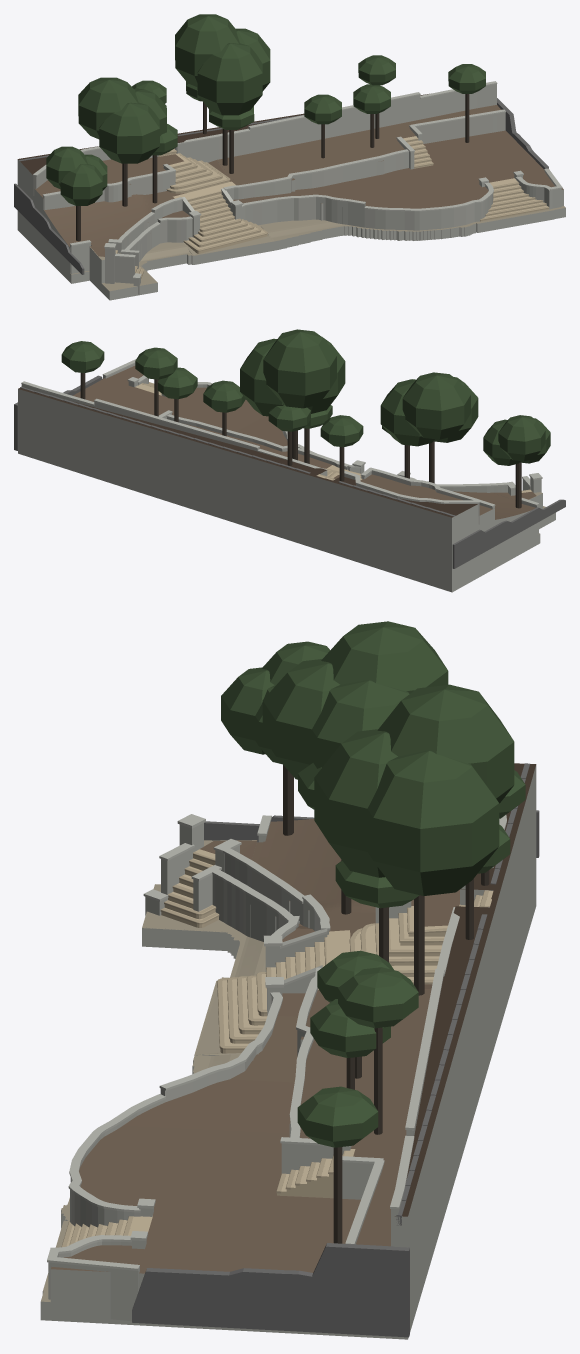
The model's file is reconstruction-25eb1bb3d922.glb.
The picture shows the model from 3 angles, top to bottom: view 1: azimuth 30°, elevation 25°; view 2: azimuth 150°, elevation 25°; view 3: azimuth 270°, elevation 25°; orthographic projection. The views are drawn at different scales.
Visible parts, largest first — view 1: ground-terraces, planting-tree-03, wall-wa, wall-we, planting-tree-01, wall-wb, planting-tree-07, flight-m1, nosing-m1, coping-wa, coping-wb, slot-filler-west (+19 smaller); view 2: ground-terraces, planting-tree-03, planting-tree-01, planting-tree-07, slot-filler-west, planting-tree-06, coping-we, planting-tree-10, planting-tree-11, planting-tree-08, planting-tree-05, planting-tree-09 (+9 smaller); view 3: ground-terraces, planting-tree-03, slot-filler-east, planting-tree-01, wall-wa, planting-tree-07, planting-tree-11, planting-tree-10, coping-wa, coping-wb, coping-we, planting-tree-09 (+18 smaller).
Boxes of the visible parts, x1,y1,x2,y2 form: ground-terraces: (17,93,565,300); planting-tree-03: (175,14,270,165); wall-wa: (70,171,561,273); wall-we: (177,84,496,161); planting-tree-01: (78,77,166,206); wall-wb: (122,112,505,249); planting-tree-07: (46,146,107,241); flight-m1: (174,189,267,253); nosing-m1: (183,191,267,251); coping-wa: (69,168,562,249); coping-wb: (118,109,505,240); slot-filler-west: (14,183,84,274); ground-terraces: (18,366,555,592); planting-tree-03: (240,329,345,460); planting-tree-01: (380,372,478,483); planting-tree-07: (483,415,550,508); slot-filler-west: (452,499,565,568); planting-tree-06: (320,415,363,481); coping-we: (21,381,326,469); planting-tree-10: (135,347,177,416); planting-tree-11: (61,341,104,399); planting-tree-08: (203,380,245,436); planting-tree-05: (268,405,310,465); planting-tree-09: (157,367,197,422); ground-terraces: (40,763,536,1339); planting-tree-03: (314,684,514,995); slot-filler-east: (132,1243,409,1337); planting-tree-01: (262,621,448,779); wall-wa: (48,827,298,1321); planting-tree-07: (221,641,330,835); planting-tree-11: (297,1086,378,1243); planting-tree-10: (338,967,418,1134); coping-wa: (47,815,299,1270); coping-wb: (223,847,384,1244); coping-we: (390,907,459,1209); planting-tree-09: (310,999,390,1089).
Bounding box in the file's own units: 32.12 × 12.28 × 14.57.
